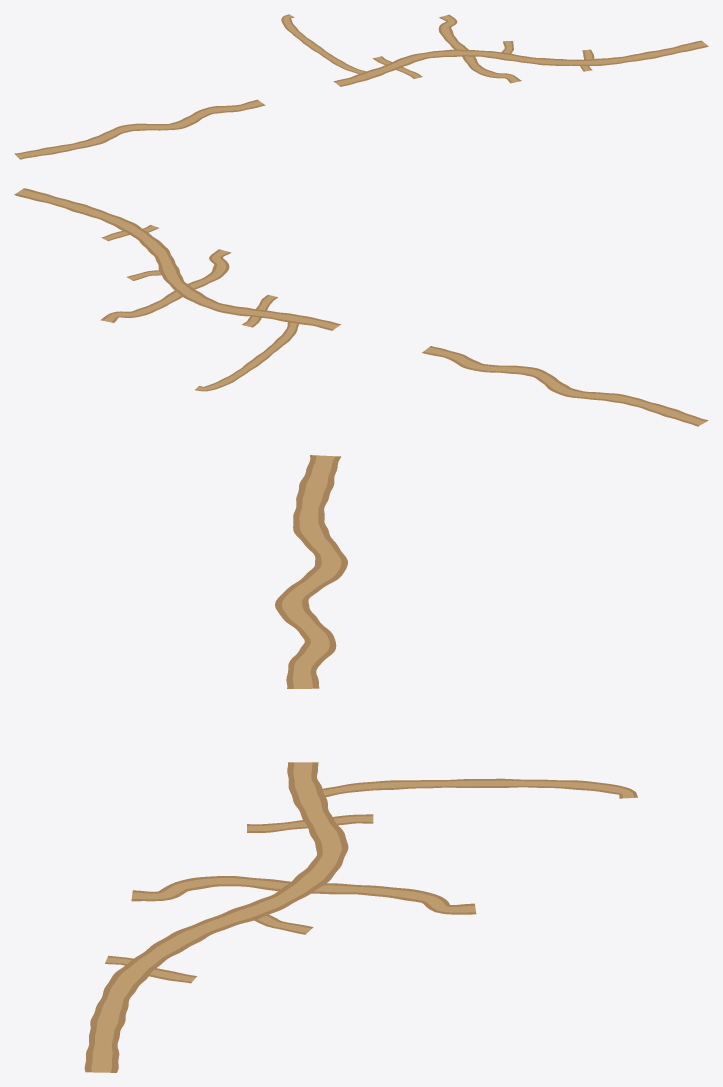
File: footpath.glb
3 renders of one model, top to bottom at view 1: azimuth 30°, elevation 25°; view 2: azimuth 150°, elevation 25°; view 3: azimuth 270°, elevation 25°, orthographic. The views are drawn at different scales.
Parts seen in each view (by area): view 1: Footpath; view 2: Footpath; view 3: Footpath.
Boxes of the visible parts, x1,y1,x2,y2 form: Footpath: (14,14,708,159); Footpath: (14,188,708,426); Footpath: (84,455,637,1072).
Bounding box in the file's own units: 130 × 0.025 × 49.31.
